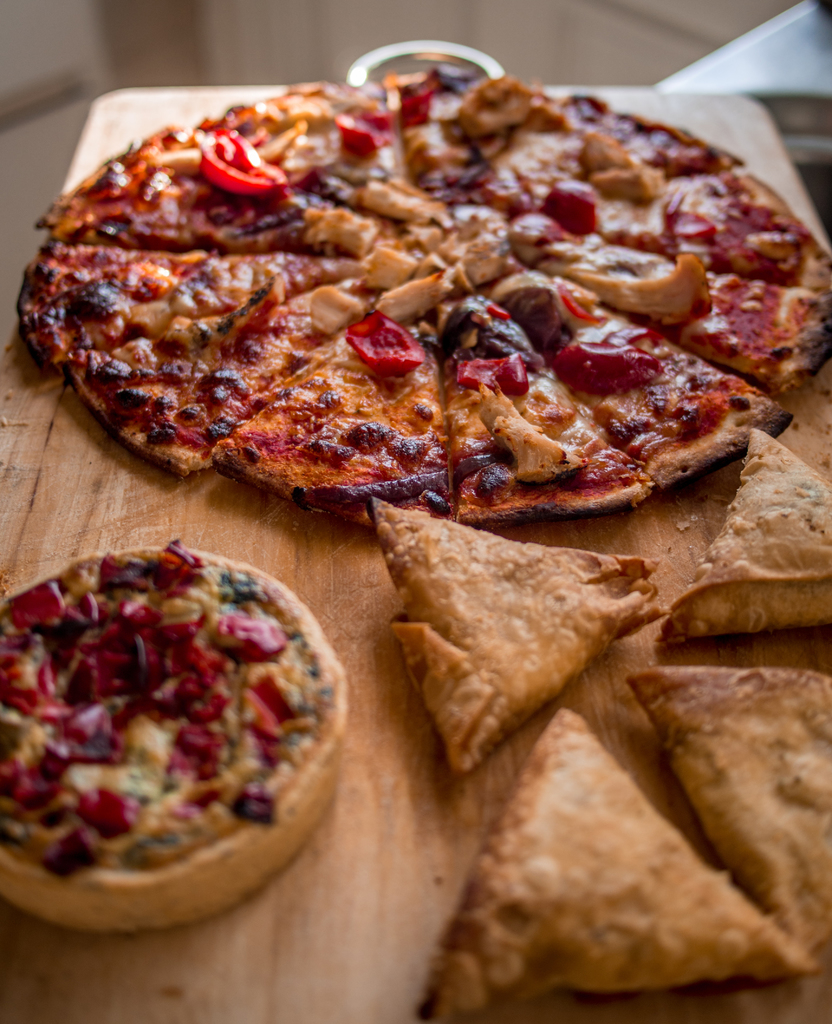Pizza: (19, 68, 790, 535), (0, 556, 357, 945)
